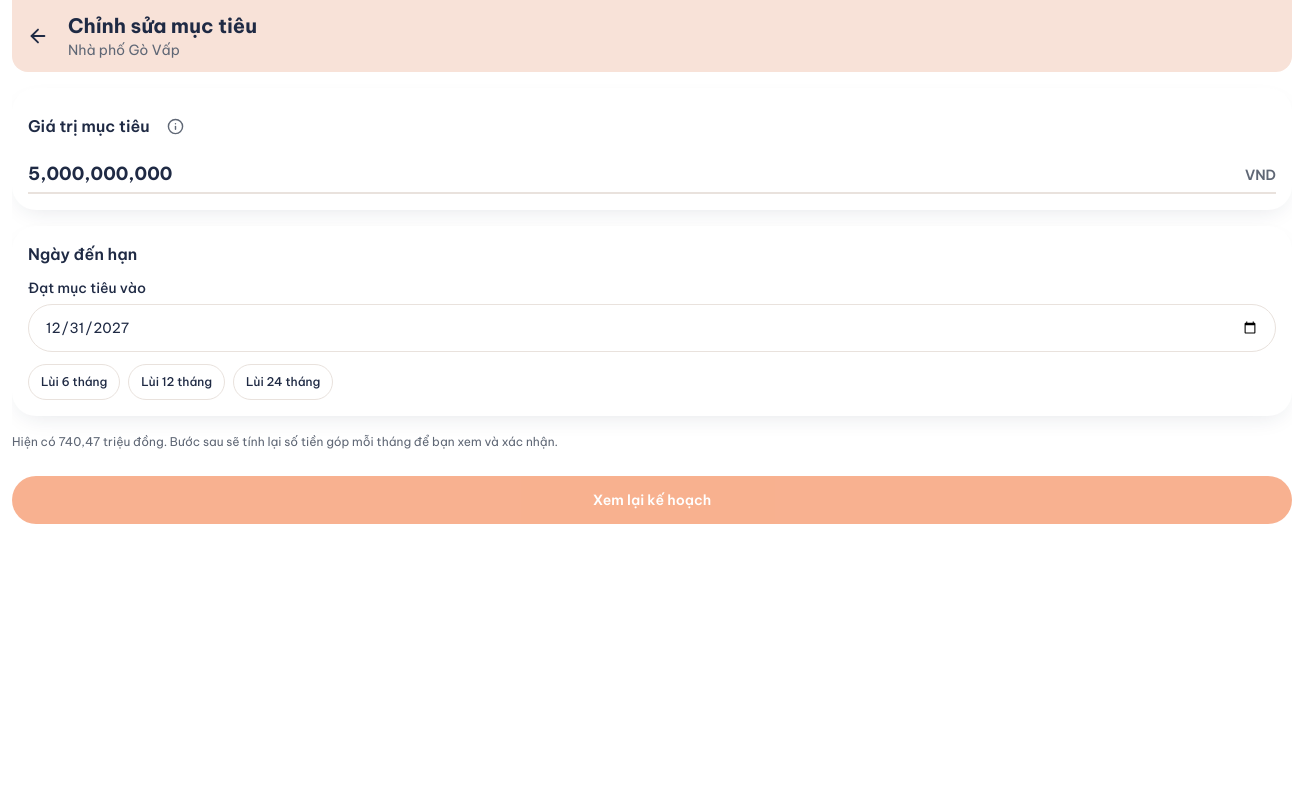
Test: EditTarget: đổi giá trị mục tiêu rồi xem lại và xác nhận › tính lại số tiền góp hằng tháng và áp dụng khi xác nhận
Replace the text in the field labelled "Giá trị mục tiêu" with "6000000000" at (632, 174), box [28,160,1237,188]
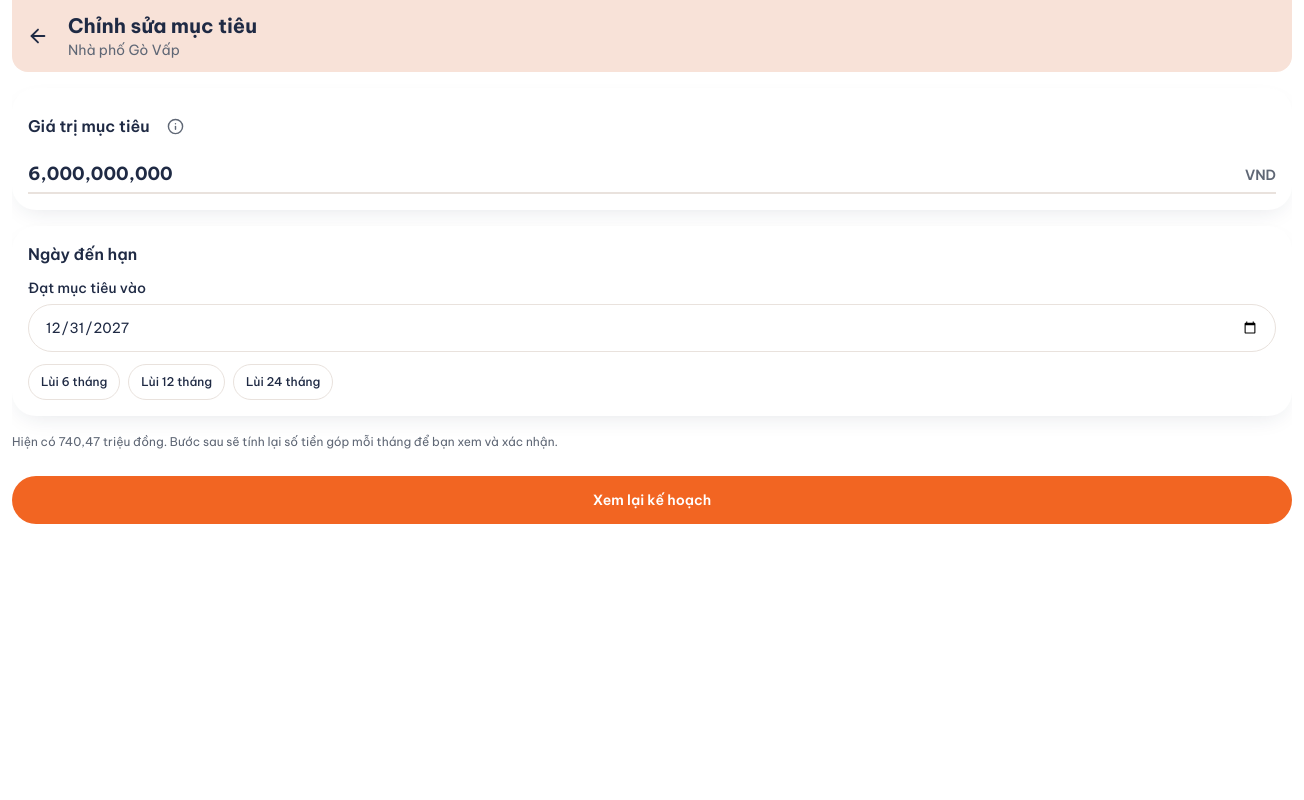
Type "2035-06-15" into the date field with id "target-date" at (652, 328), box [28,304,1276,352]
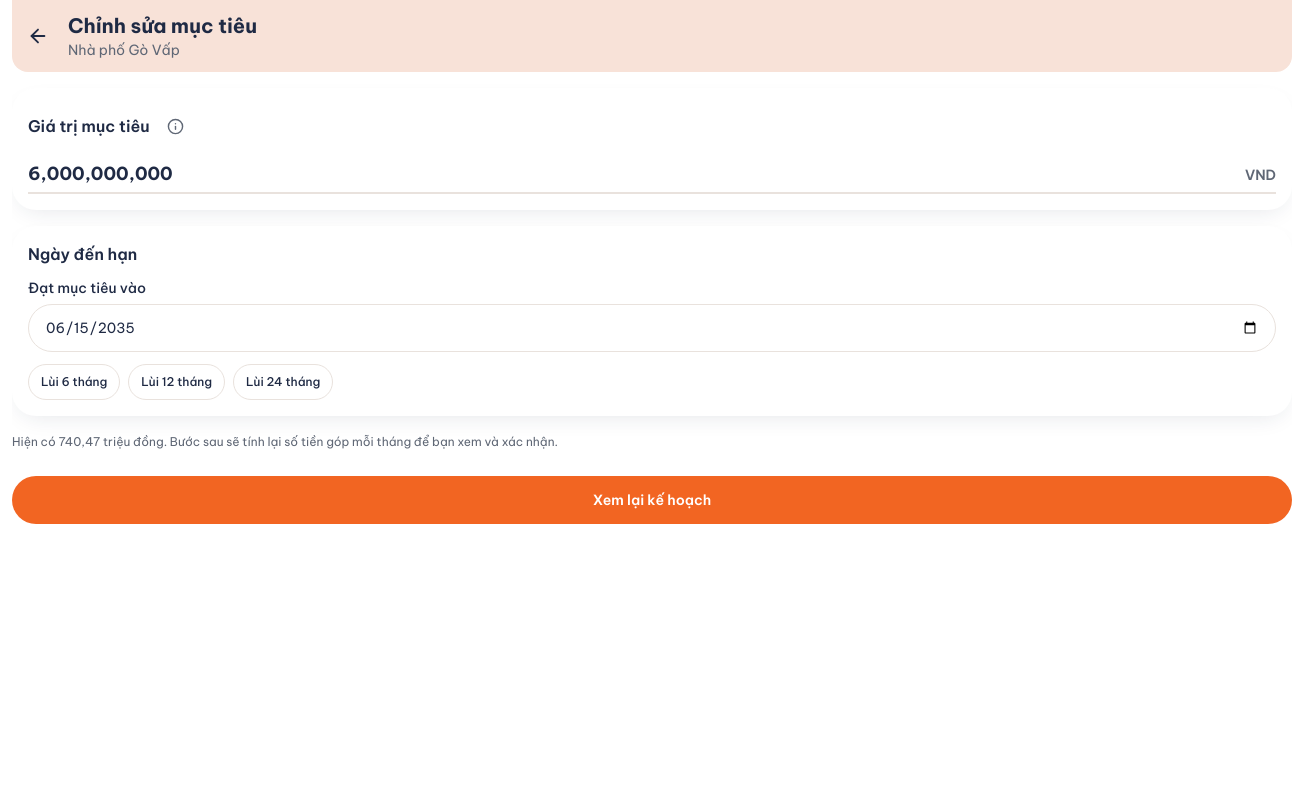
Click the button "Xem lại kế hoạch" at (652, 500), box [12,476,1292,524]
(page scrolled)
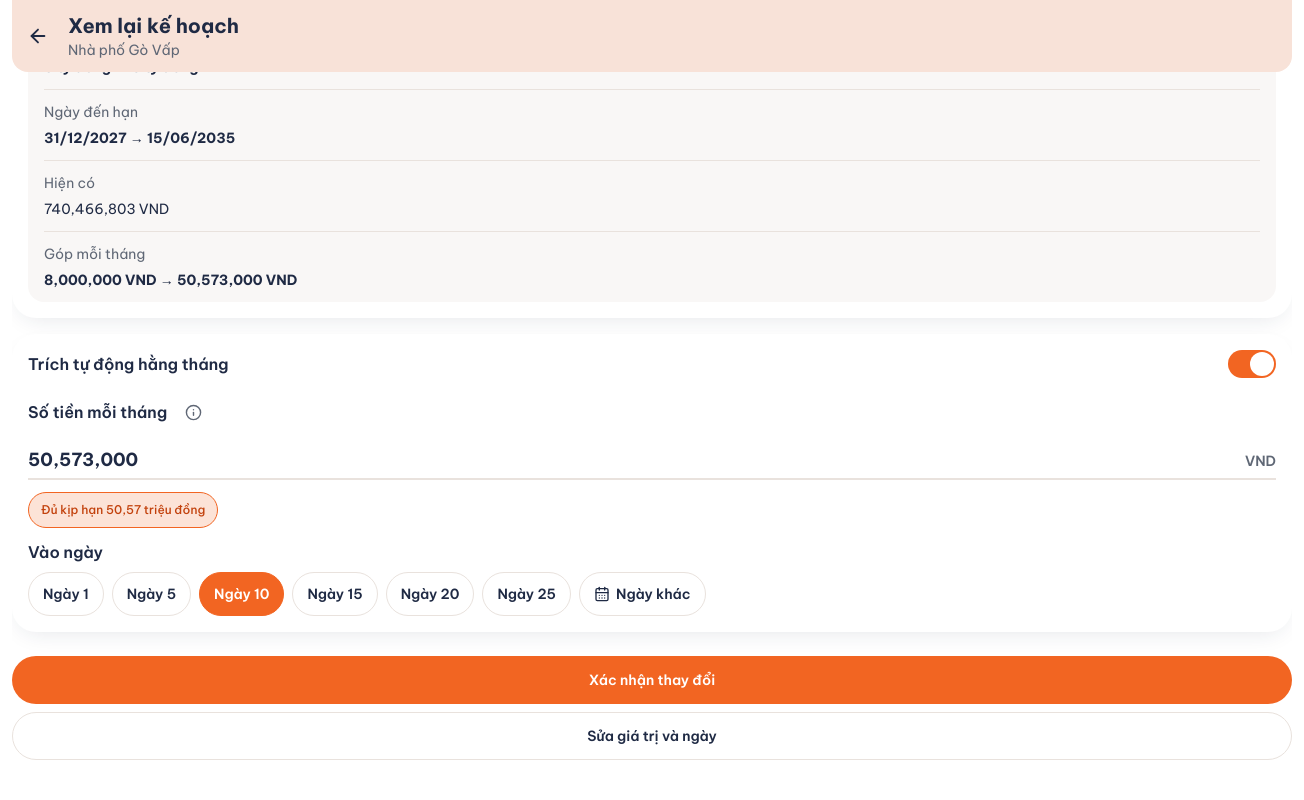
Expected: the text "Góp mỗi tháng" is shown, [44,245,145,263]
Expected: the text "5 tỷ đồng → 6 tỷ đồng" is shown, [44,58,198,76]
Expected: the text "31/12/2027 → 15/06/2035" is shown, [44,129,235,147]
Click the button "Xác nhận thay đổi" at (652, 680), box [12,656,1292,704]
(page scrolled)
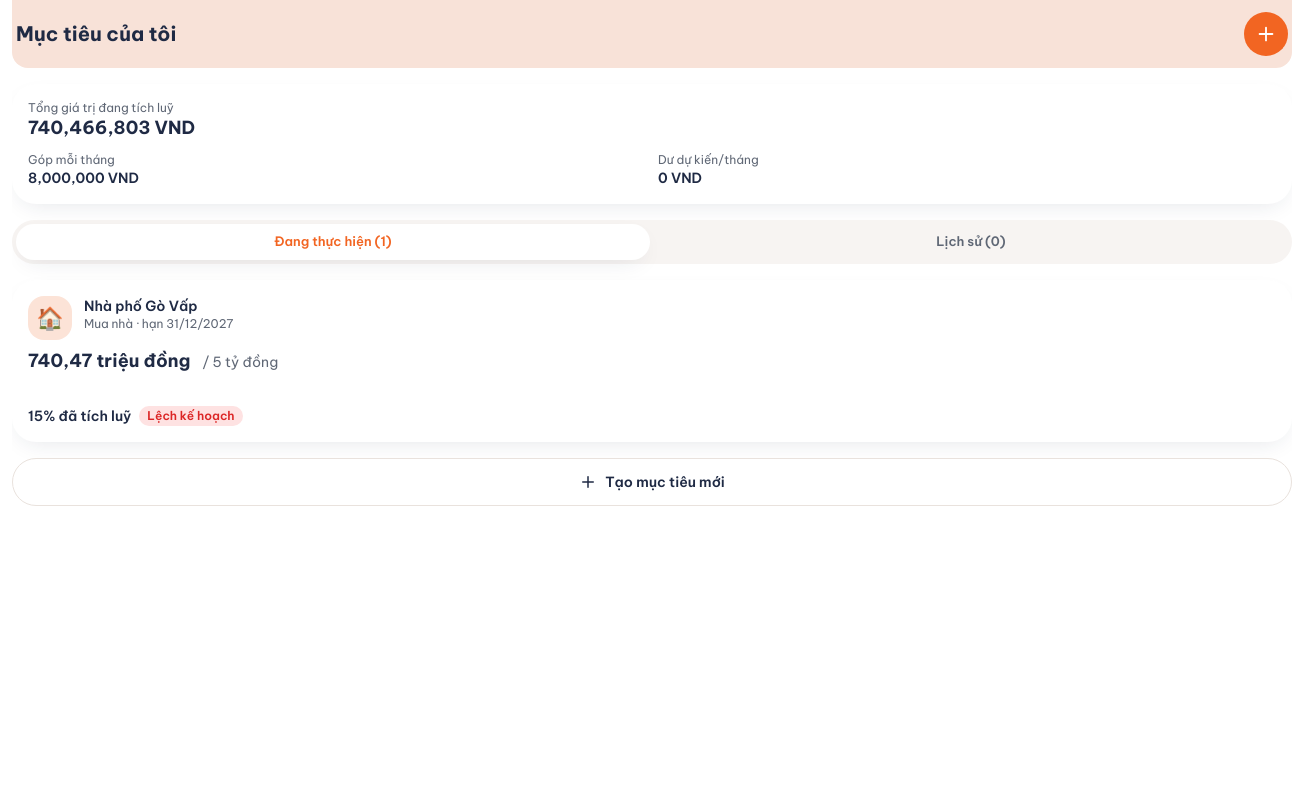
Expected: the heading "Xem lại kế hoạch" is gone
